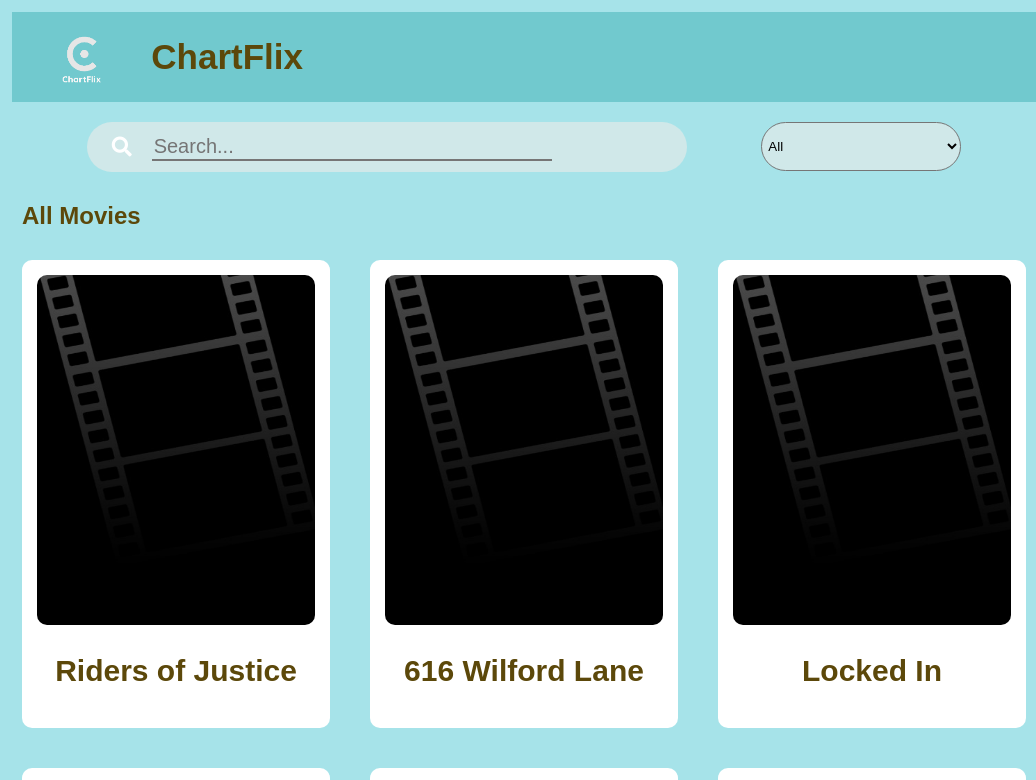
Test: Filter › should be able to search by text
Type "Riders" into the search field named "search" at (352, 148), box [152,134,552,161]
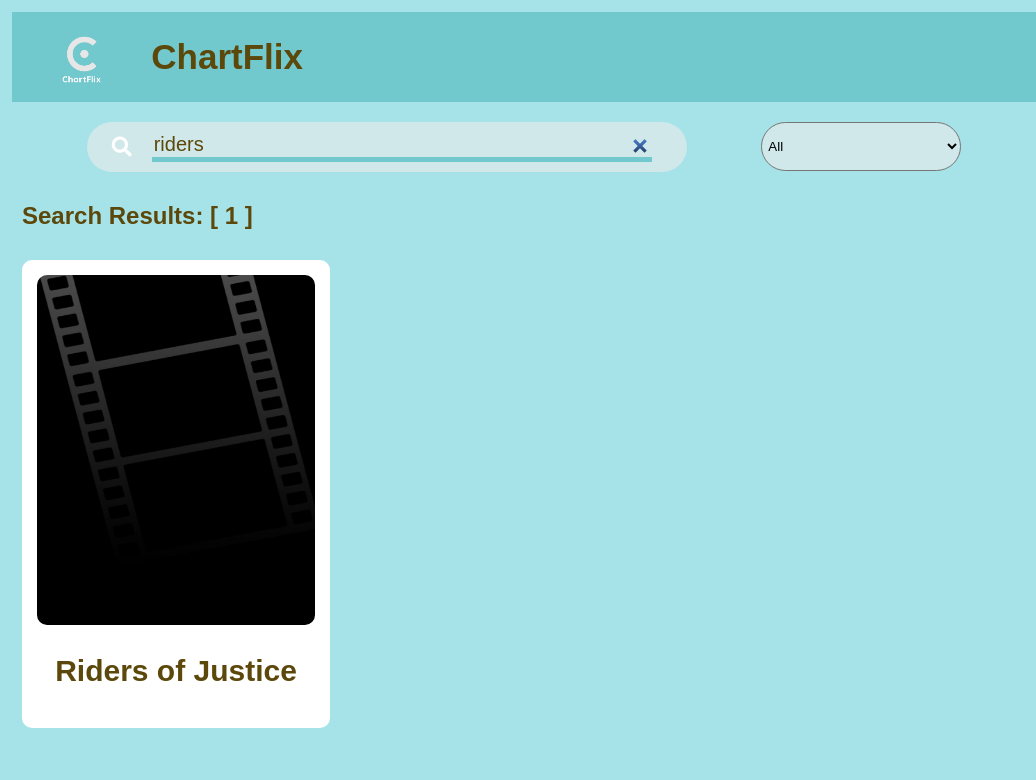
Expected: the number of elements with class "MoviePoster" is 1, [22,260,330,728]
